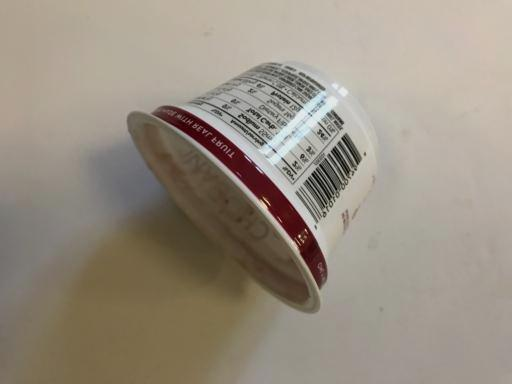trash: (125, 57, 379, 317)
